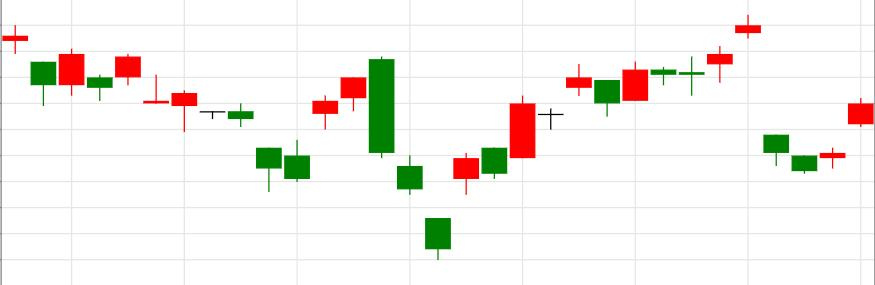bearish_engulfing_fall: (284, 56, 395, 182)
